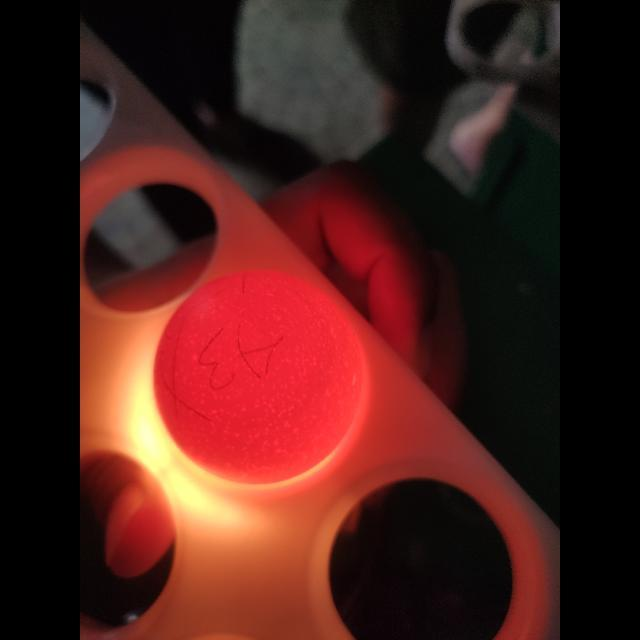Infertile: (150, 262, 372, 488)
